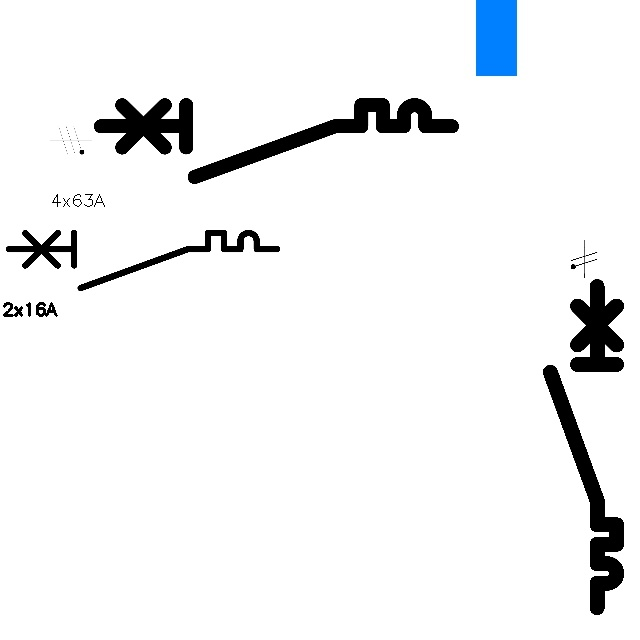interruptor_termomagnetico: (91, 96, 460, 186), (542, 278, 625, 616), (2, 226, 284, 295)
